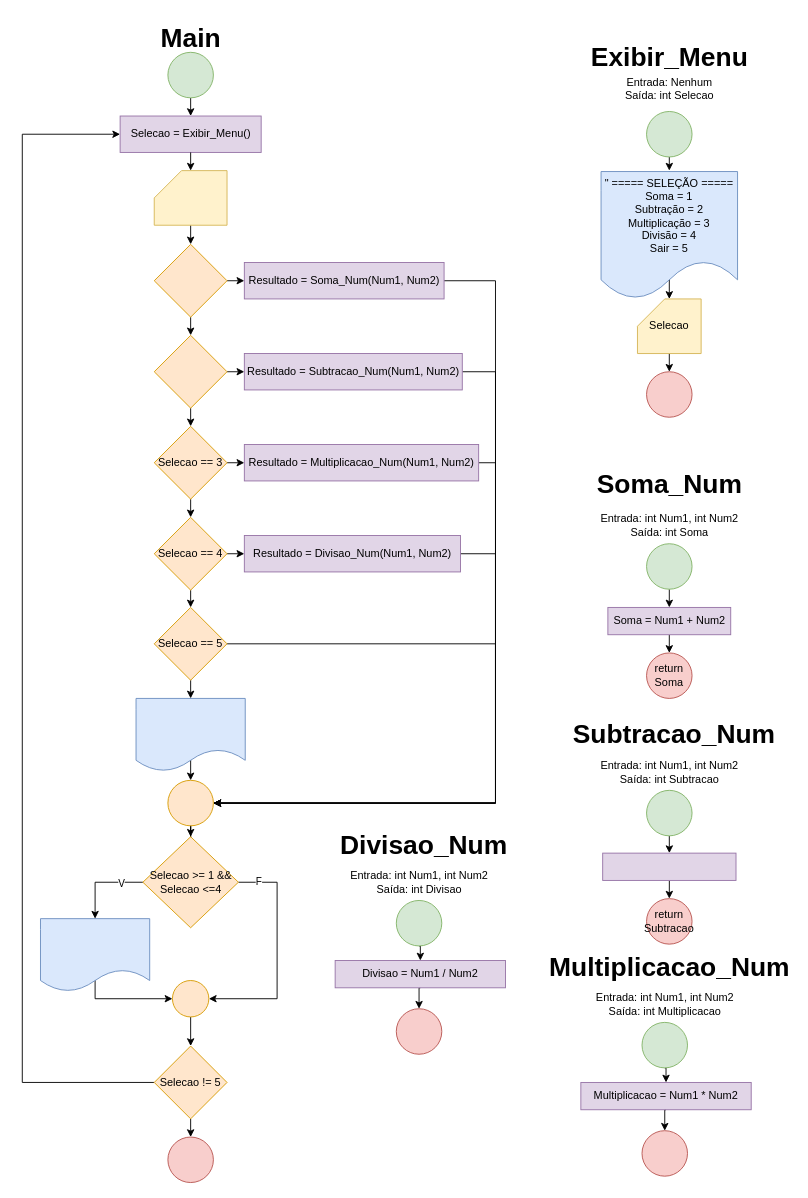
The diagram is 808 pixels wide and 1198 high, and some of its shapes have lost their labels. Each missing label, with the centre of its shape:
" Resultado da operação: "Resultado: [95,954]
" Seleção inválida": [190,734]
Num1, Num2: [190,197]
return Divisao: [418,1031]
return Multiplicacao: [664,1153]
return Selecao: [669,394]
Selecao == 1: [190,280]
Selecao == 2: [190,371]
Subtracao = Num1 - Num2: [669,866]
